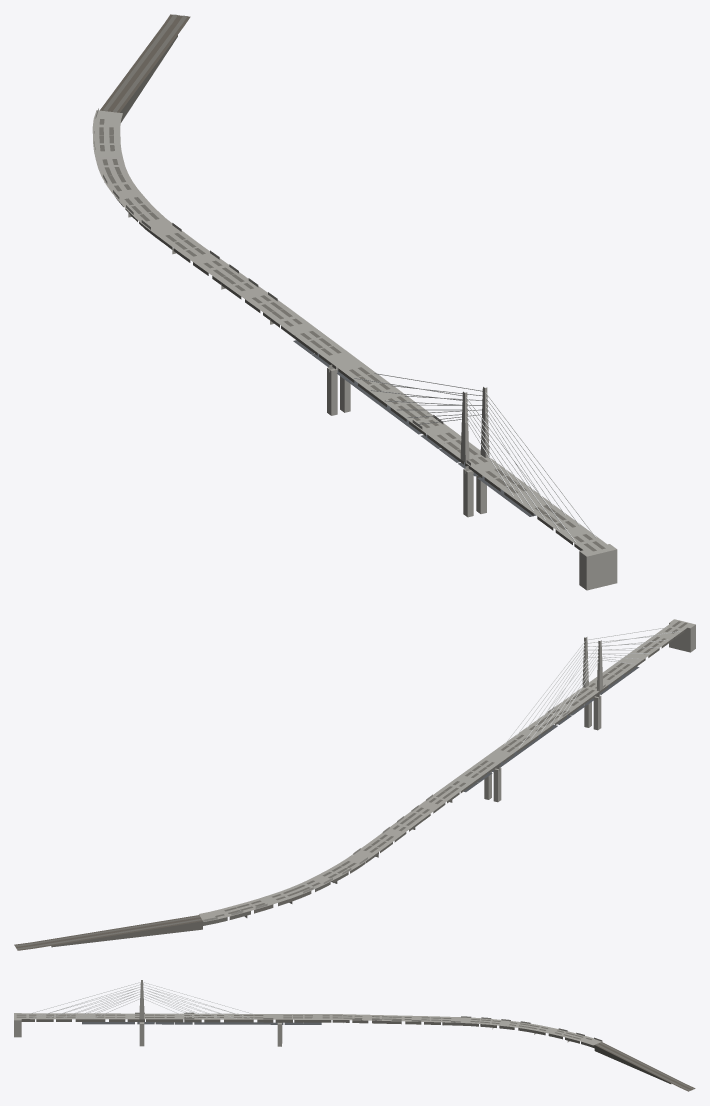
Rendered from br_r14_tawatina_lod2.gltf.
The picture shows the model from 3 angles, top to bottom: view 1: azimuth 30°, elevation 25°; view 2: azimuth 150°, elevation 25°; view 3: azimuth 270°, elevation 25°; orthographic projection. The views are drawn at different scales.
Visible parts, largest first — view 1: br_r14_tawatina_lod2; view 2: br_r14_tawatina_lod2; view 3: br_r14_tawatina_lod2.
Boxes of the visible parts, x1=… form: br_r14_tawatina_lod2: x1=92, y1=14, x2=617, y2=590; br_r14_tawatina_lod2: x1=14, y1=619, x2=695, y2=950; br_r14_tawatina_lod2: x1=14, y1=980, x2=695, y2=1091.
Size of the model in its own units: 128 by 54.6 by 544.
